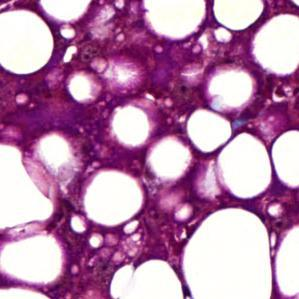steatosis: (85, 170, 148, 225), (186, 111, 232, 153)
